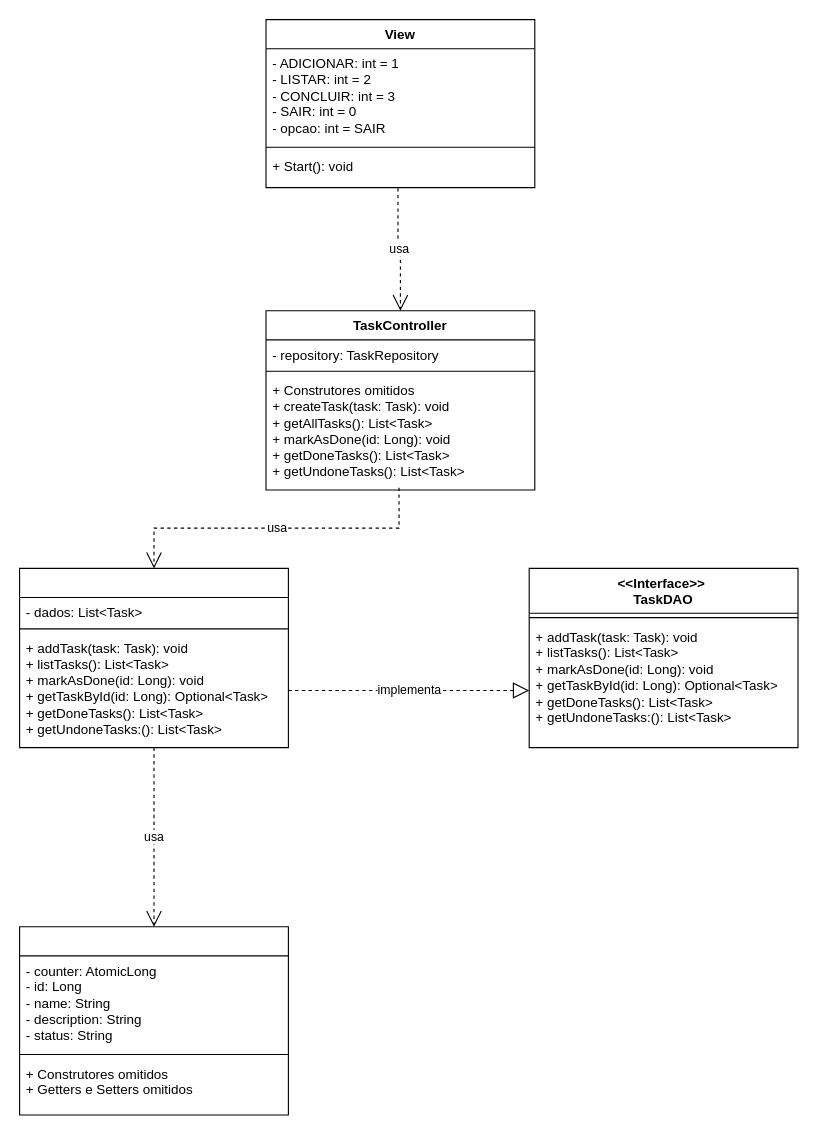
This 818x1138 diagram has some shape labels left out. Here are the shapes that lost their labels. From the top down, the box of each, then its label:
(18, 567, 288, 748): TaskRepository
(18, 926, 288, 1115): Task
